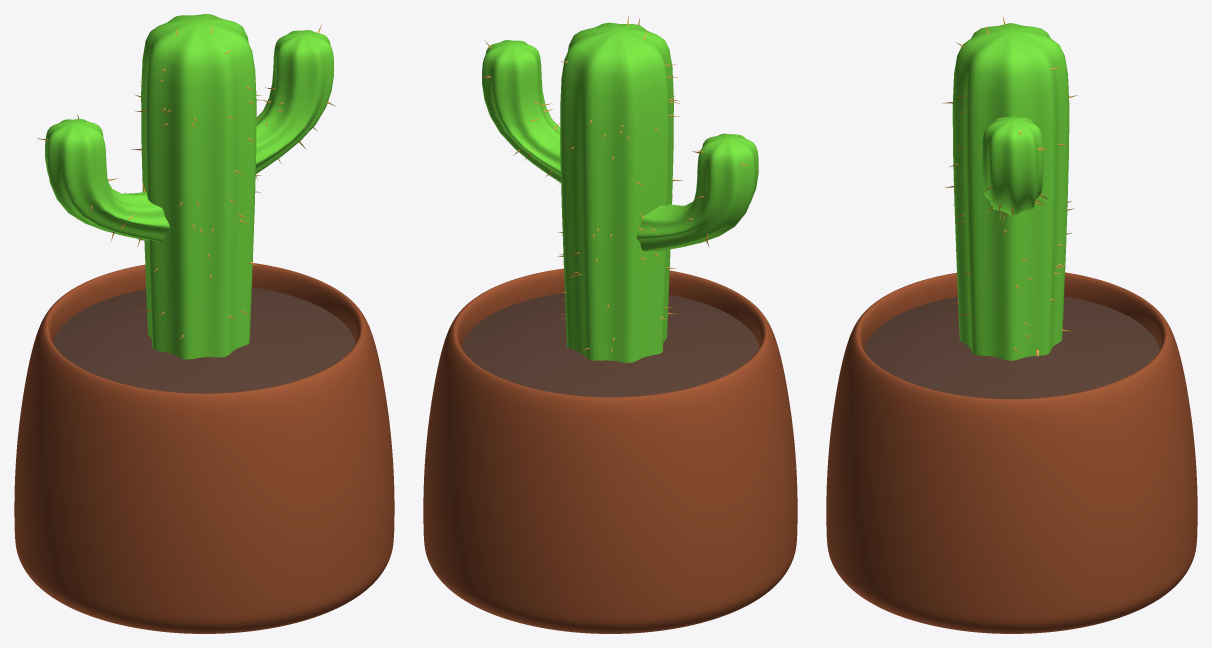
Rendered from cactus_plant_web_small.glb.
The picture shows the model from 3 angles, left to right: view 1: azimuth 30°, elevation 25°; view 2: azimuth 150°, elevation 25°; view 3: azimuth 270°, elevation 25°; orthographic projection. The views are drawn at different scales.
Visible parts, largest first — view 1: pot, cactus, dirt; view 2: pot, cactus, dirt; view 3: pot, cactus, dirt.
Part boxes in pixels (bbox=[...]): pot: bbox=[14, 263, 394, 633]; cactus: bbox=[37, 14, 335, 359]; dirt: bbox=[53, 287, 355, 393]; pot: bbox=[423, 268, 797, 633]; cactus: bbox=[481, 16, 758, 362]; dirt: bbox=[461, 293, 759, 397]; pot: bbox=[826, 272, 1197, 633]; cactus: bbox=[942, 15, 1076, 360]; dirt: bbox=[864, 296, 1159, 398].
Size of the model in its own units: 2.07 by 3.31 by 2.07.
